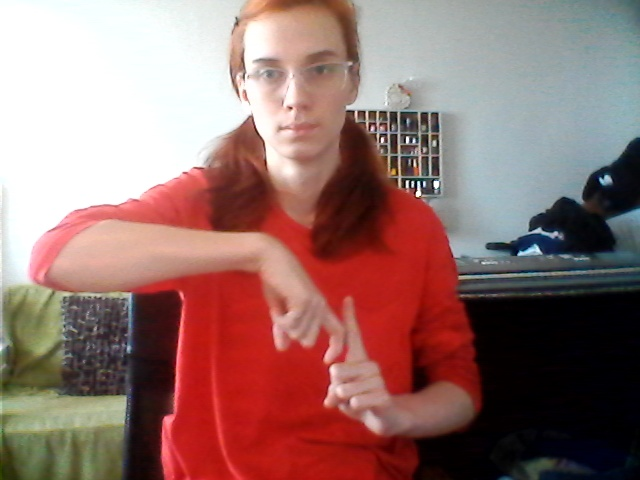k: (243, 224, 395, 444)
